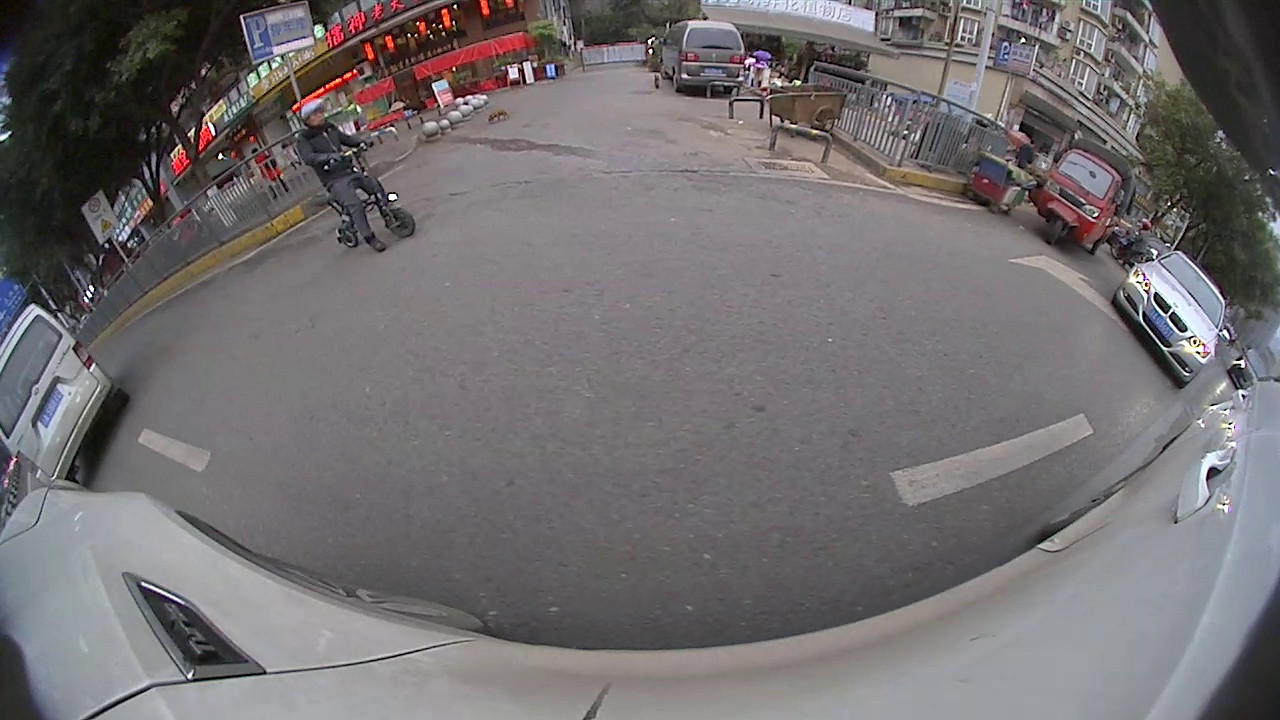car: (0, 303, 131, 487), (1107, 244, 1234, 392), (656, 16, 749, 99)
front: (380, 203, 419, 239)
rear: (333, 224, 359, 250)
rider: (287, 91, 424, 261), (1030, 134, 1136, 260)
